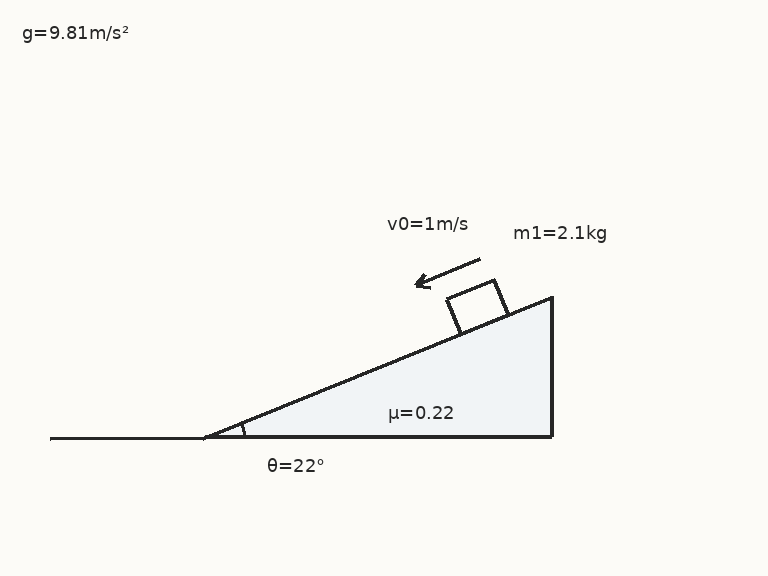block: (444, 278, 509, 336)
ramp: (202, 295, 554, 439)
